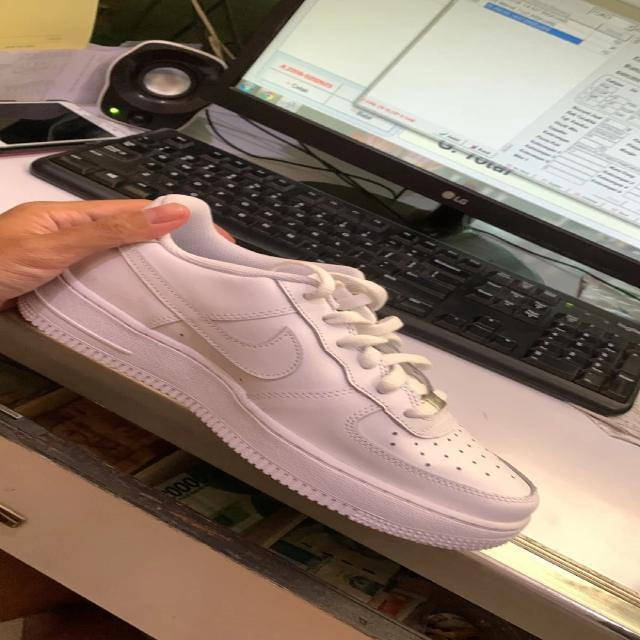nike original air force: (13, 193, 544, 554)
